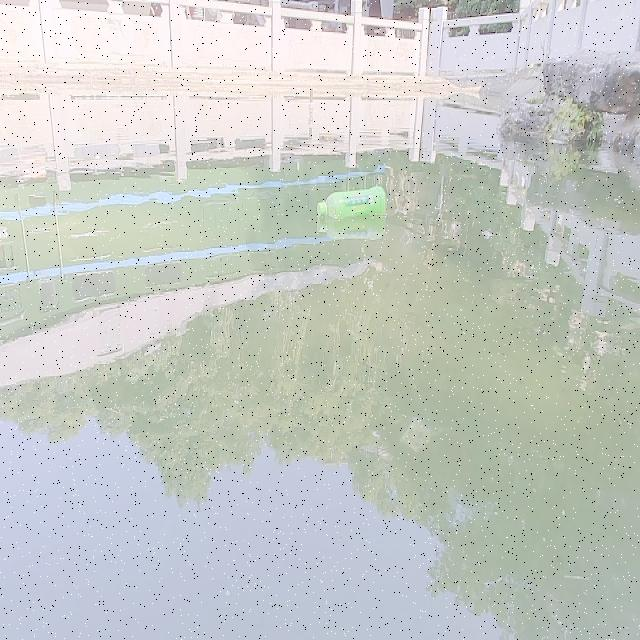Bottle: (314, 183, 389, 224)
